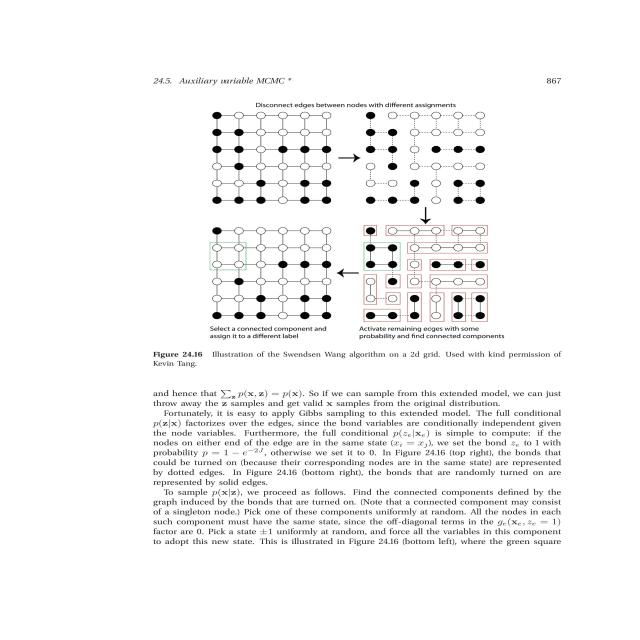diagram: (153, 88, 570, 362)
